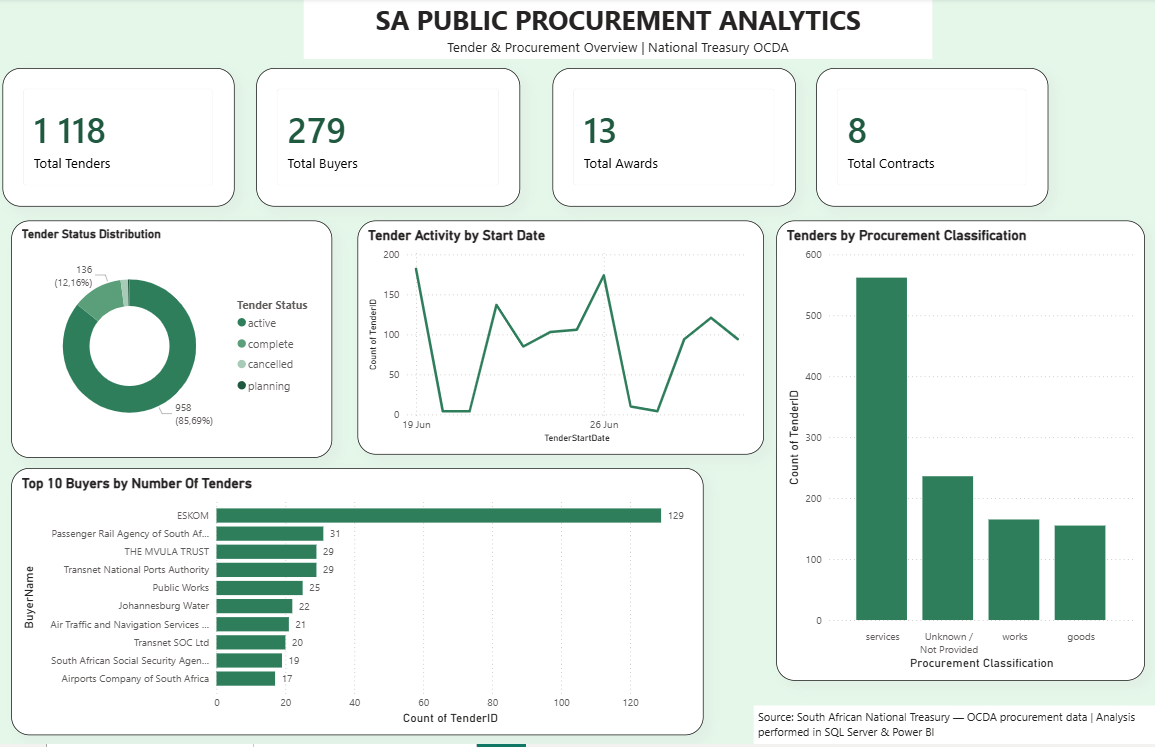

Layout of this report page (visuals, bound fields, positions):
{"tool":"powerbi","page":{"name":"Procurement Overview","canvas":[1400,900],"ordinal":0},"visuals":[{"type":"cardVisual","fields":{"Data":["Awards.Total Tenders"]},"box":[9.6,85.1,279.9,167.4],"z":0},{"type":"cardVisual","fields":{"Data":["Awards.Total Buyers"]},"box":[315.6,85.1,318.4,167.4],"z":1000},{"type":"cardVisual","fields":{"Data":["Awards.Total Awards"]},"box":[672.4,85.1,293.7,167.4],"z":2000},{"type":"cardVisual","fields":{"Data":["Awards.Total Contracts"]},"box":[990.7,85.1,279.9,167.4],"z":3000},{"type":"donutChart","title":"Tender Status Distribution","fields":{"Category":["Tenders.TenderStatus"],"Y":["CountNonNull(Tenders.TenderID)"]},"box":[19.6,268.4,387.6,286.5],"z":4000},{"type":"clusteredBarChart","title":"Top 10 Buyers by Number Of Tenders","fields":{"Y":["CountNonNull(Tenders.TenderID)"],"Category":["Buyers.BuyerName"]},"box":[19.6,567,835.5,322.7],"z":5000},{"type":"clusteredColumnChart","title":"Tenders by Procurement Classification","fields":{"Category":["Tenders.ProcurementClassification"],"Y":["CountNonNull(Tenders.TenderID)"]},"box":[942.5,268.4,444.9,555],"z":6000},{"type":"lineChart","title":"Tender Activity by Start Date","fields":{"Y":["CountNonNull(Tenders.TenderID)"],"Category":["Tenders.TenderStartDate"]},"box":[437.3,268.4,490.1,282],"z":7000},{"type":"textbox","box":[372.5,0,758.5,73.9],"z":8000},{"type":"textbox","box":[915.4,853.6,484.1,46.7],"z":9000}]}

Visuals, with their boxes in screenshot pixels (x1, y1, x2, y2), scaled from the page's 1400x900 canvas onto the 1155x747 screenshot:
cardVisual - Awards.Total Tenders: {"x1": 8, "y1": 71, "x2": 239, "y2": 210}
cardVisual - Awards.Total Buyers: {"x1": 260, "y1": 71, "x2": 523, "y2": 210}
cardVisual - Awards.Total Awards: {"x1": 555, "y1": 71, "x2": 797, "y2": 210}
cardVisual - Awards.Total Contracts: {"x1": 817, "y1": 71, "x2": 1048, "y2": 210}
"Tender Status Distribution" donutChart: {"x1": 16, "y1": 223, "x2": 336, "y2": 461}
"Top 10 Buyers by Number Of Tenders" clusteredBarChart: {"x1": 16, "y1": 471, "x2": 705, "y2": 738}
"Tenders by Procurement Classification" clusteredColumnChart: {"x1": 778, "y1": 223, "x2": 1145, "y2": 683}
"Tender Activity by Start Date" lineChart: {"x1": 361, "y1": 223, "x2": 765, "y2": 457}
textbox: {"x1": 307, "y1": 0, "x2": 933, "y2": 61}
textbox: {"x1": 755, "y1": 708, "x2": 1154, "y2": 746}
